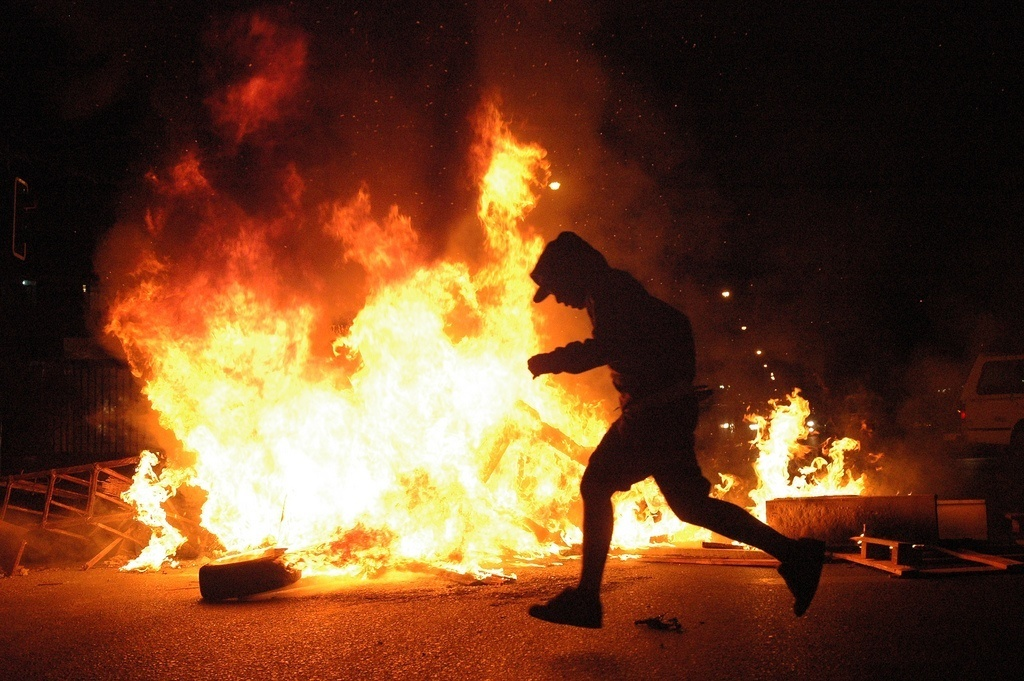fire: (72, 86, 897, 599)
